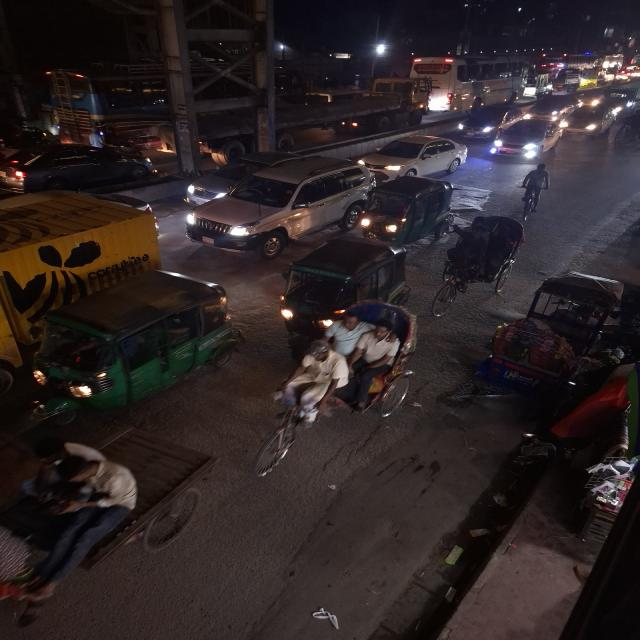bicycle: (514, 172, 554, 222), (514, 164, 554, 212)
bus: (421, 59, 531, 106)
car: (180, 156, 370, 258), (5, 146, 160, 188), (361, 134, 469, 178), (489, 118, 563, 163), (558, 101, 624, 141), (456, 102, 522, 138), (524, 94, 576, 122)
cng: (17, 266, 228, 430), (278, 238, 409, 327), (362, 175, 453, 242)
rickshaw: (1, 420, 226, 558), (256, 299, 422, 479), (476, 269, 627, 399), (433, 212, 528, 312)
truck: (0, 185, 163, 323), (275, 74, 433, 139), (549, 68, 584, 94)
